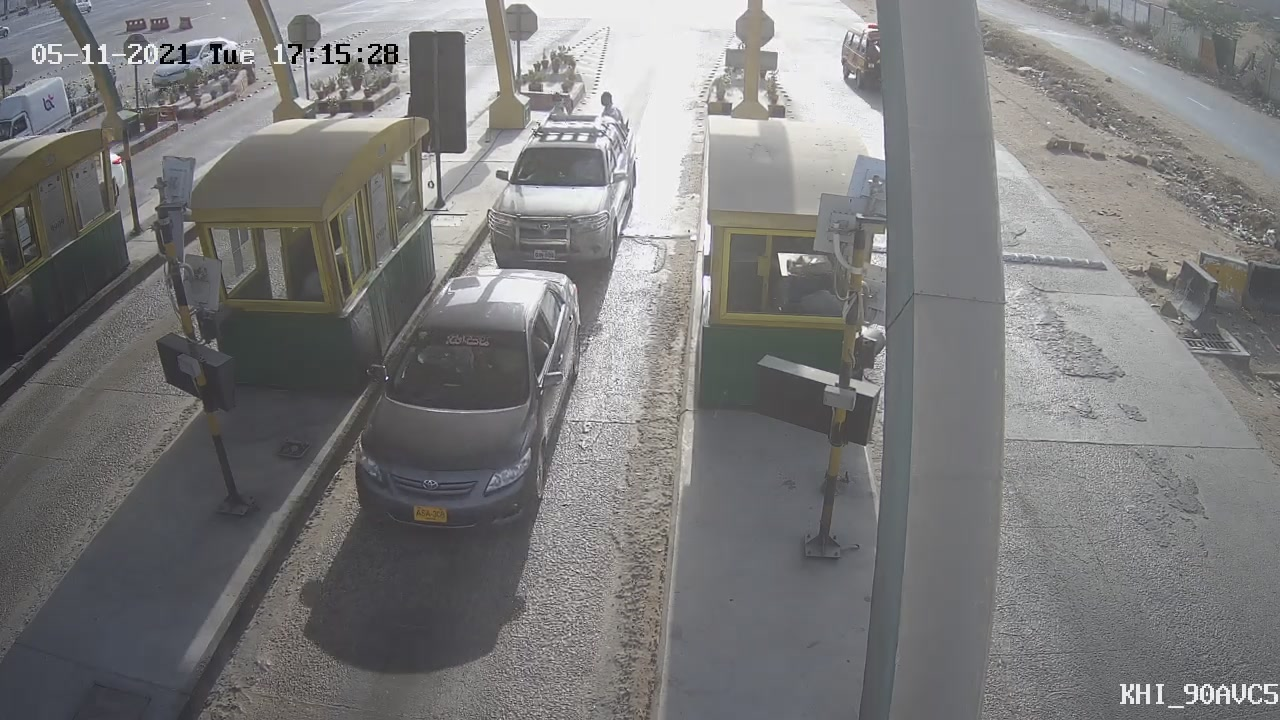F1: (327, 249, 600, 557), (472, 94, 650, 290)
